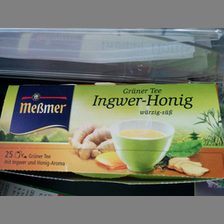tea: (1, 84, 224, 180)
